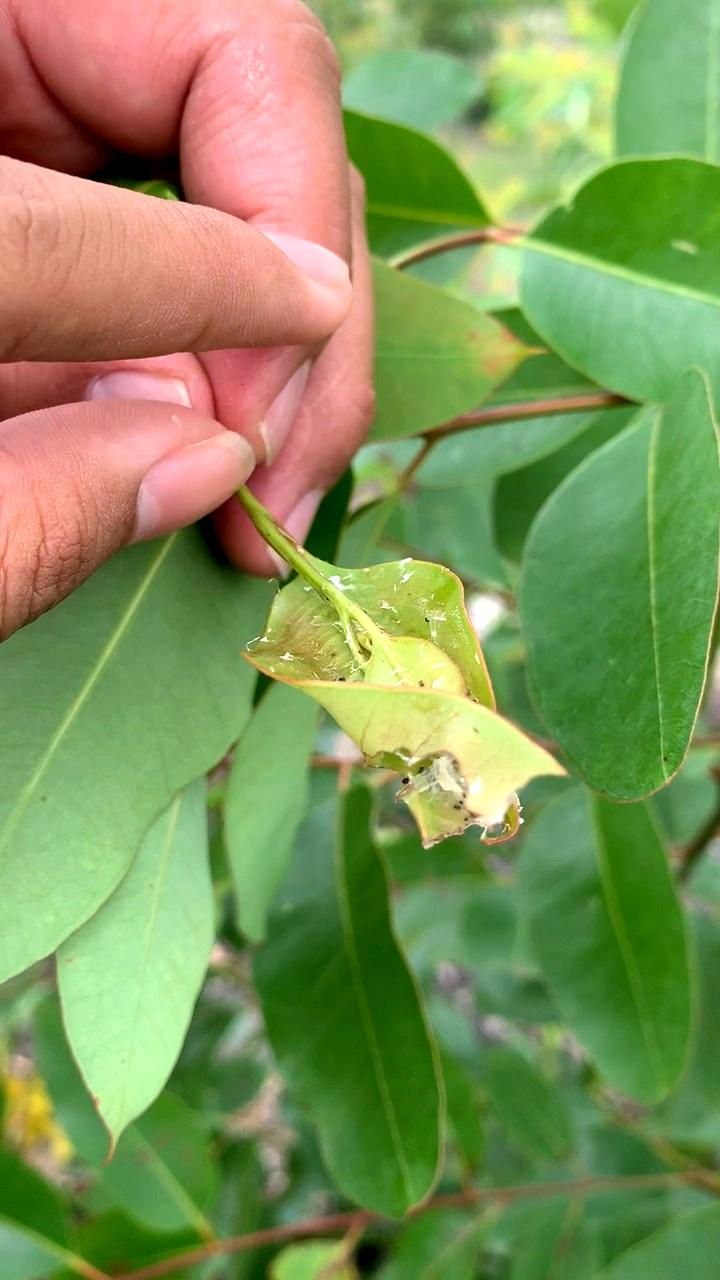Leaf Roller - Leaf: (261, 548, 545, 855)
